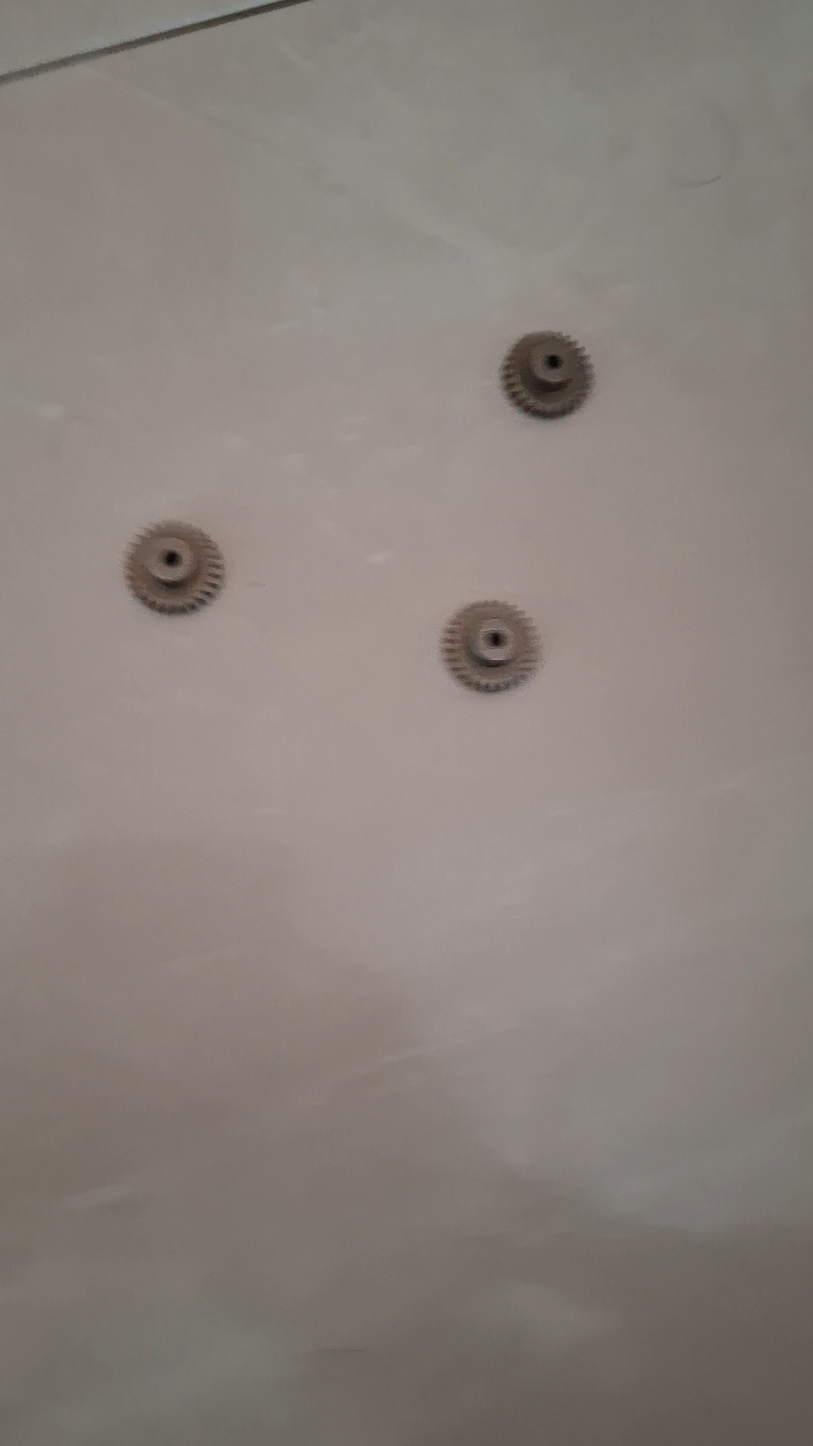spur gear: (441, 601, 540, 692), (125, 522, 224, 613), (501, 332, 593, 418)
